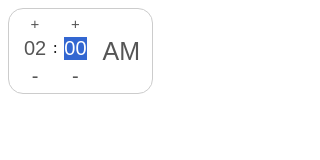
Scenario: TimeInput – stepping › decrements the minute below 0 to 59
Click the 2nd button "-" at coordinates (76, 76), box [58, 61, 94, 92]
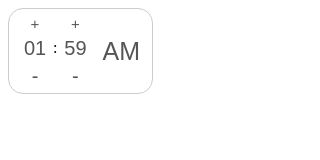
Check: the 2nd field with placeholder "--" holds "59", box [58, 36, 94, 61]
